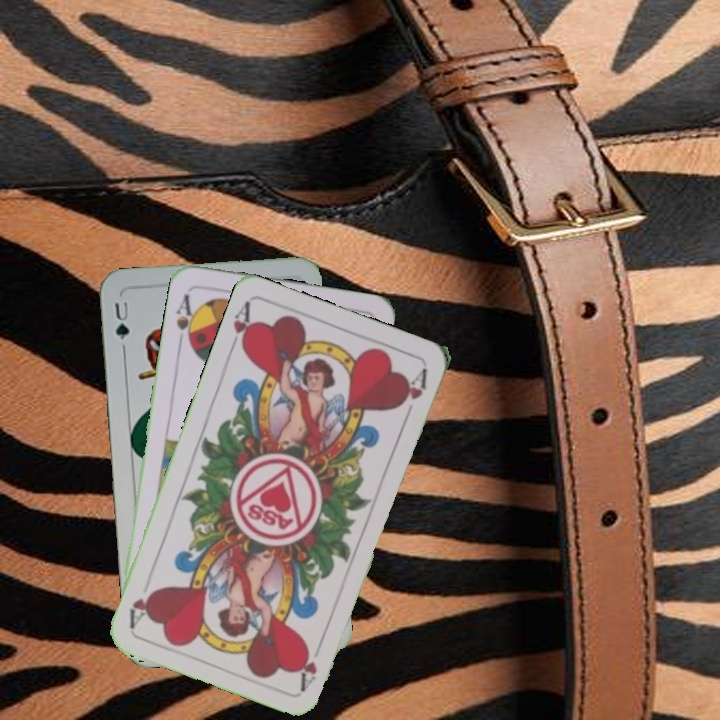GU: (110, 297, 132, 343)
HA: (225, 297, 257, 356), (296, 635, 326, 692)
SA: (171, 291, 200, 348)
